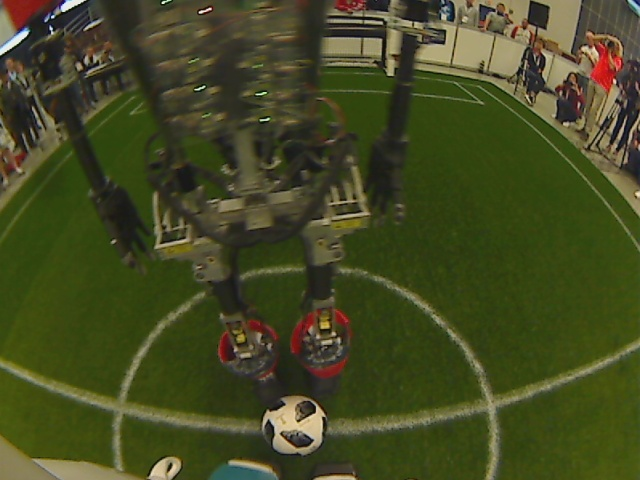ball: (259, 397, 332, 457)
goalpost: (376, 56, 404, 82)
robot: (249, 350, 358, 405)
